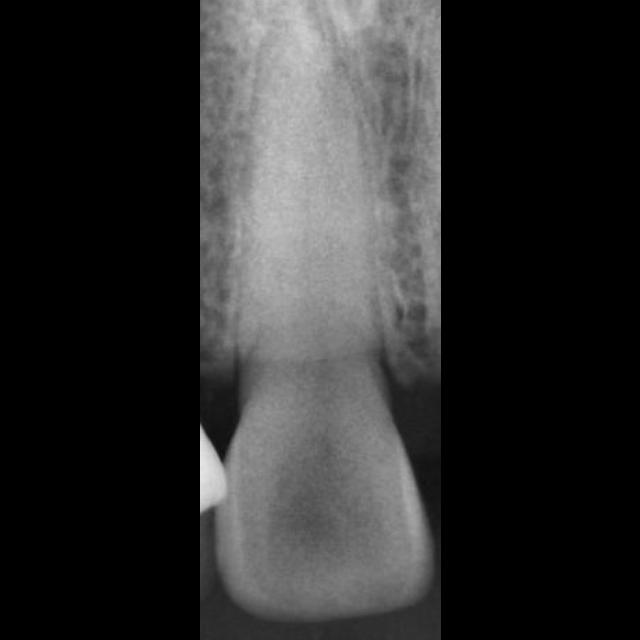tooth: (214, 17, 432, 624)
